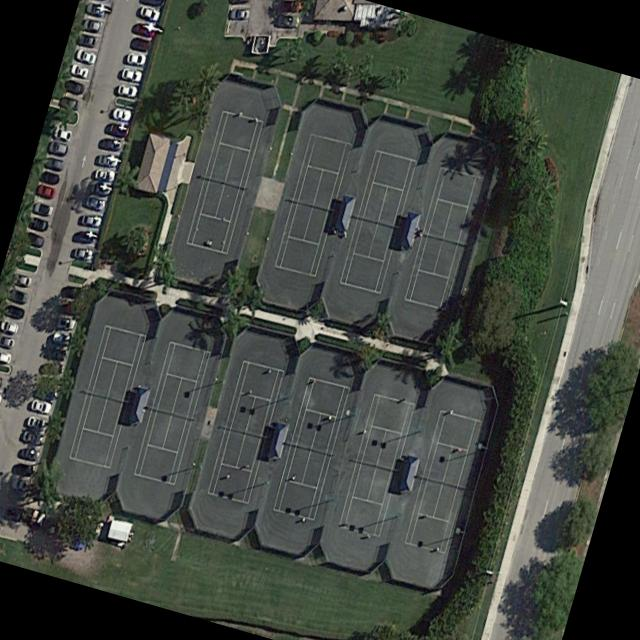small-vehicle: (29, 395, 53, 415), (125, 48, 148, 68), (75, 47, 97, 67), (3, 302, 26, 321), (54, 312, 77, 331), (32, 198, 53, 218), (129, 36, 151, 55), (273, 13, 299, 29), (17, 445, 40, 463), (89, 180, 113, 197), (36, 182, 57, 201), (42, 154, 64, 172), (85, 194, 107, 212), (26, 415, 48, 433), (21, 429, 44, 446), (69, 62, 89, 81), (27, 215, 48, 233), (59, 95, 80, 113), (12, 271, 33, 289), (121, 66, 143, 83), (80, 17, 103, 33), (7, 287, 28, 304), (64, 78, 85, 95), (85, 1, 106, 18), (24, 231, 45, 248), (47, 140, 69, 156), (44, 347, 66, 363), (33, 384, 56, 399), (133, 22, 156, 37), (99, 137, 122, 152), (75, 32, 96, 48), (139, 5, 160, 21), (105, 122, 126, 138), (117, 83, 138, 99), (111, 106, 132, 122), (80, 212, 102, 227), (96, 153, 119, 167), (49, 329, 69, 345), (39, 170, 60, 185), (52, 127, 73, 142), (9, 478, 31, 492), (93, 168, 115, 182), (73, 246, 93, 261), (0, 319, 20, 334), (59, 285, 82, 298), (280, 0, 303, 13), (11, 462, 34, 475), (73, 231, 96, 244), (38, 363, 62, 375), (228, 9, 250, 20), (68, 537, 84, 552), (0, 335, 16, 350), (0, 350, 12, 364), (142, 0, 163, 6), (228, 0, 248, 5)
